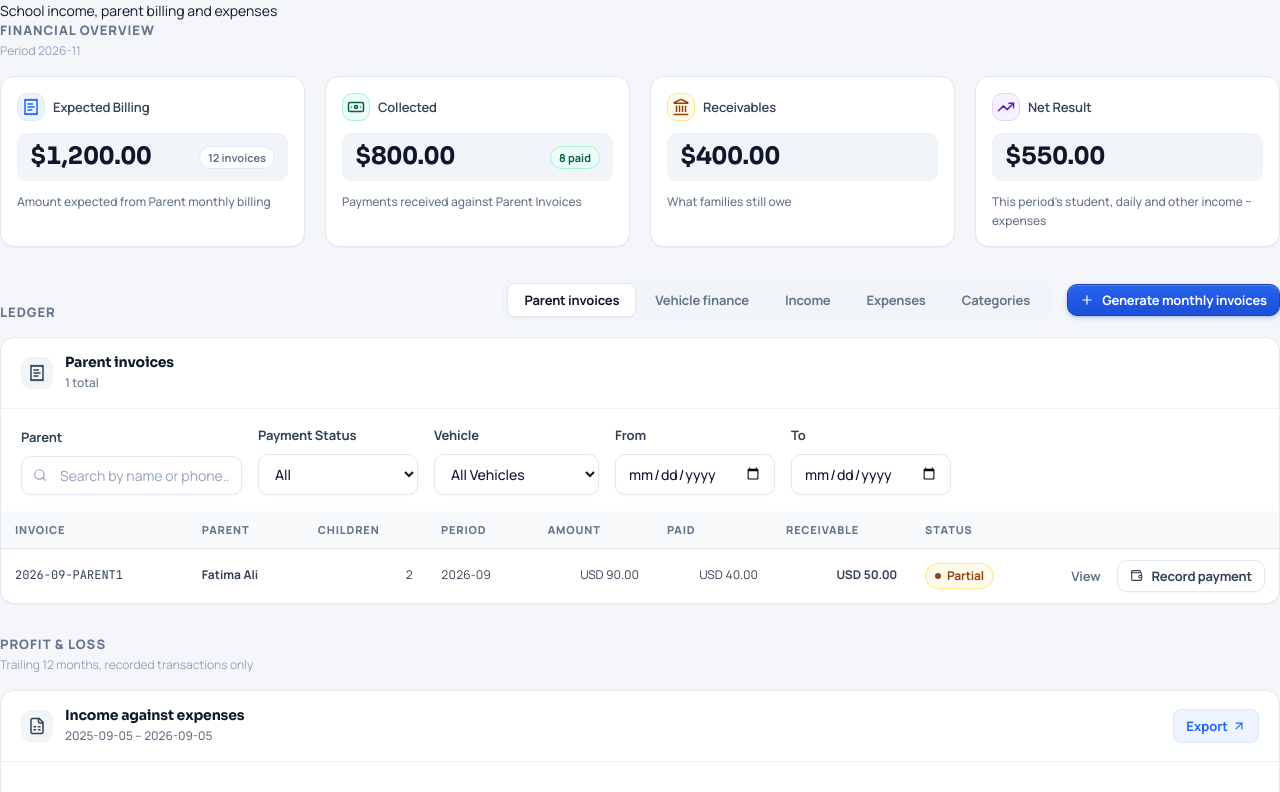
Scenario: OrgFinancePage › refuses to save an overpayment client-side before anything is sent
Check: the text "Fatima Ali" is shown, box top-left (188, 548), bottom-right (304, 603)
Click the button "Record payment". click: (1191, 576)
box: top-left (1117, 560), bottom-right (1265, 592)
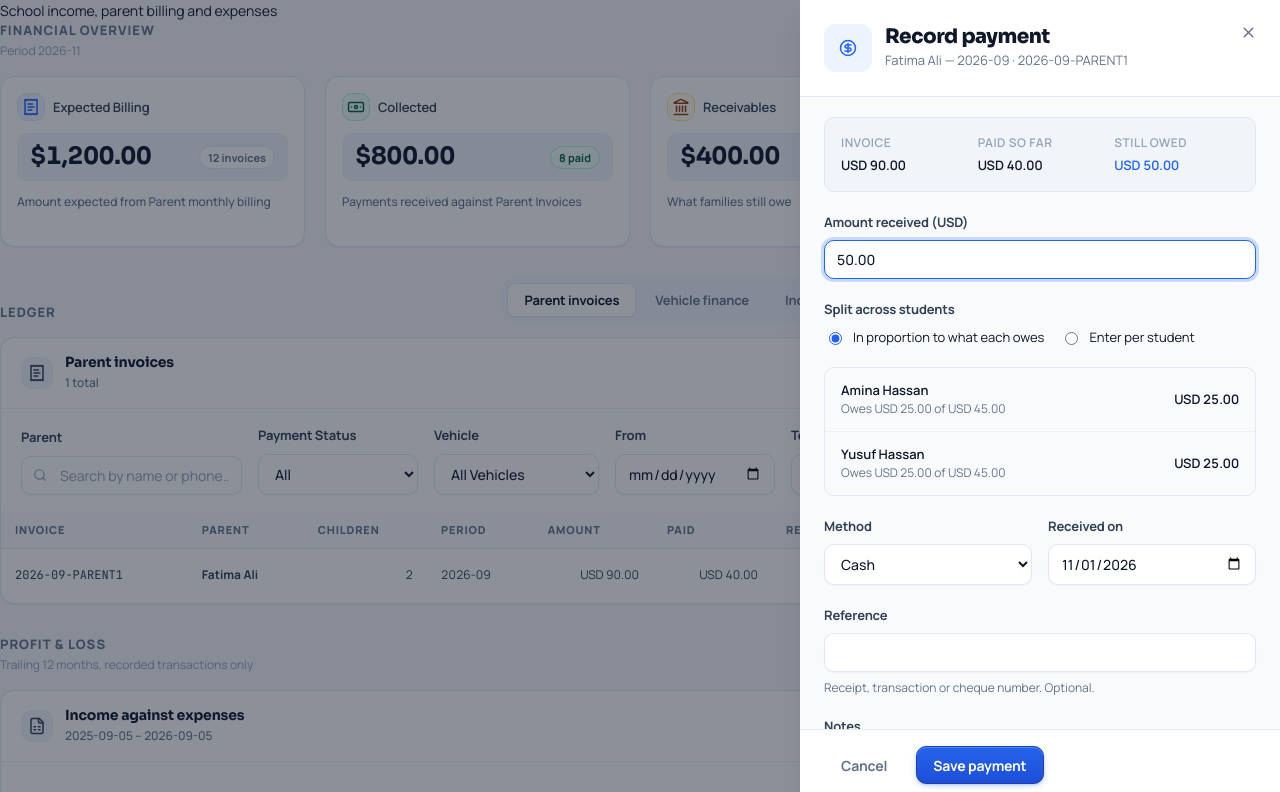
Replace the text in the field labelled "Amount received" with "60.00". click: (1040, 259)
box: top-left (824, 240), bottom-right (1256, 279)
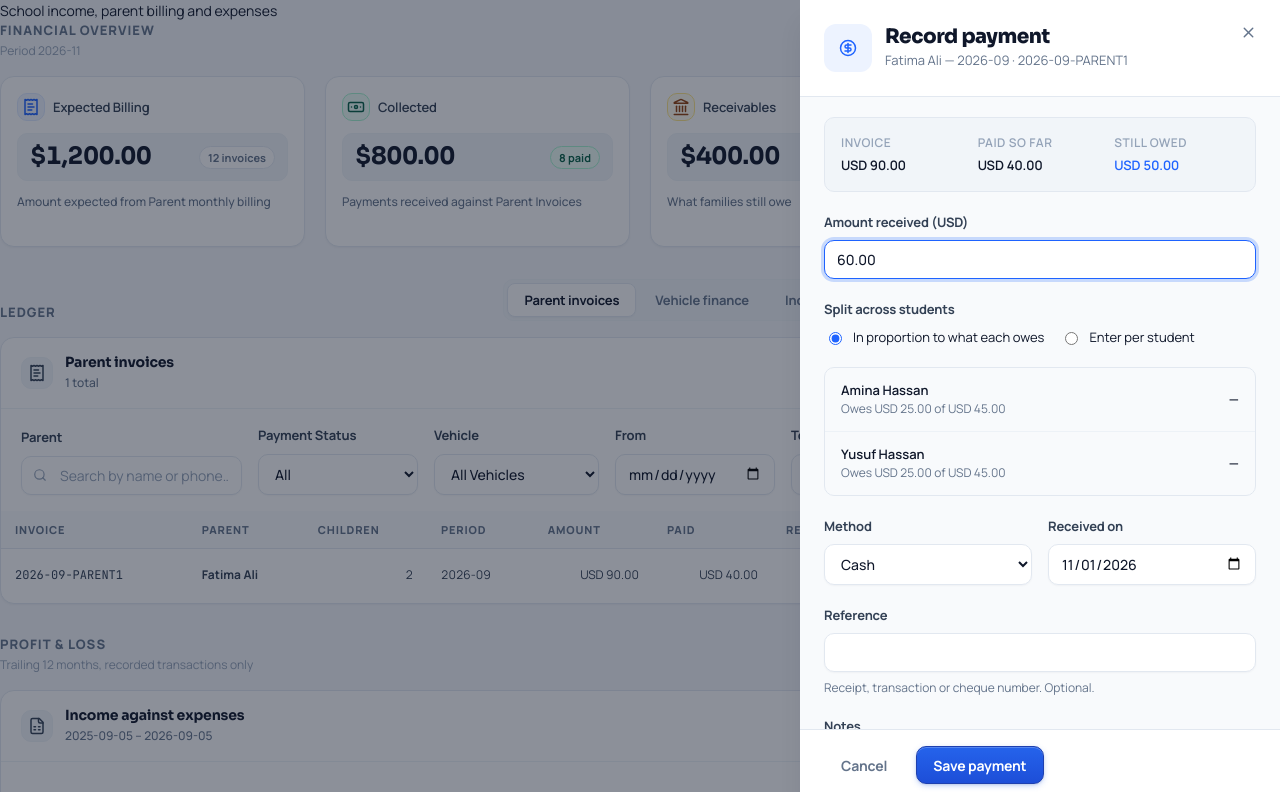
Click the button "Save payment". click: (980, 765)
box: top-left (916, 746), bottom-right (1044, 784)
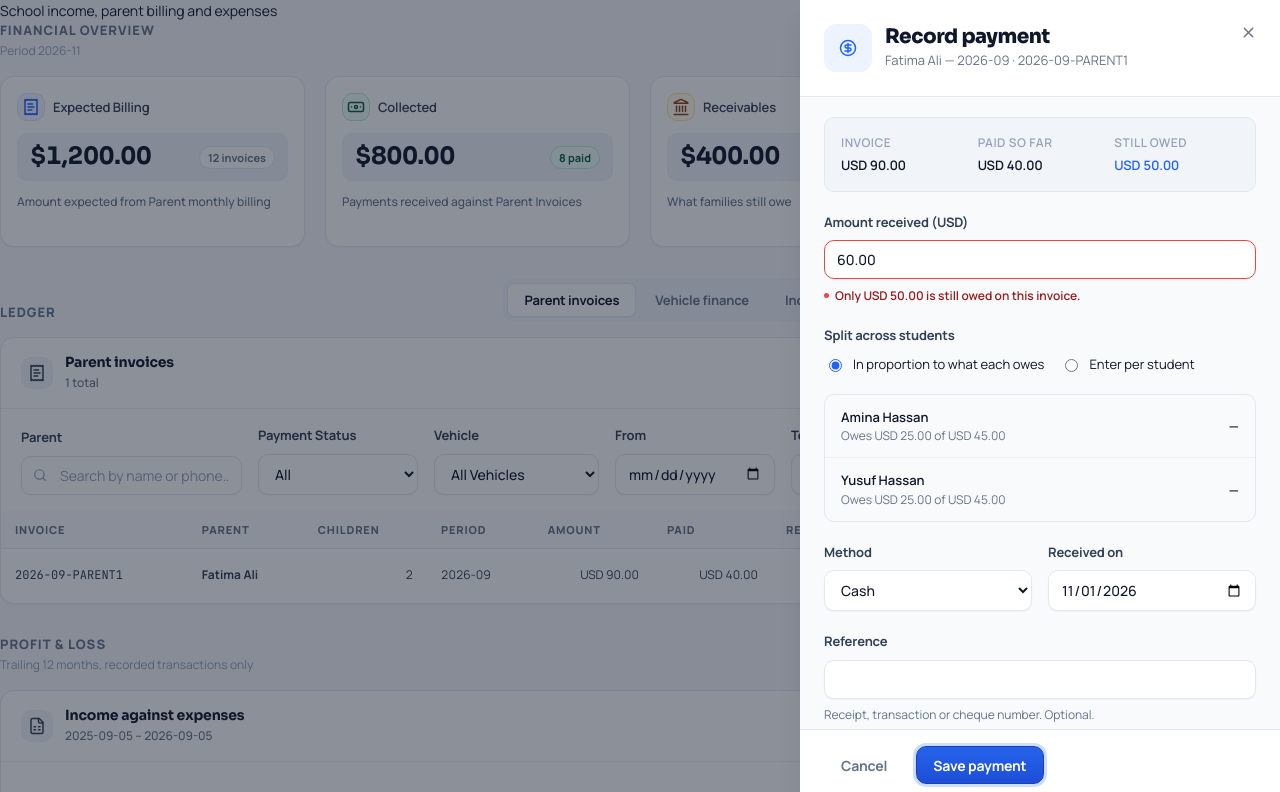
Check: the text "Only USD 50.00 is still owed on this invoice." is shown, box top-left (835, 287), bottom-right (1080, 304)
